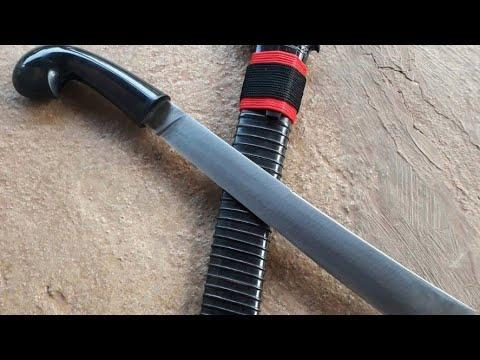facao: (13, 45, 472, 313)
